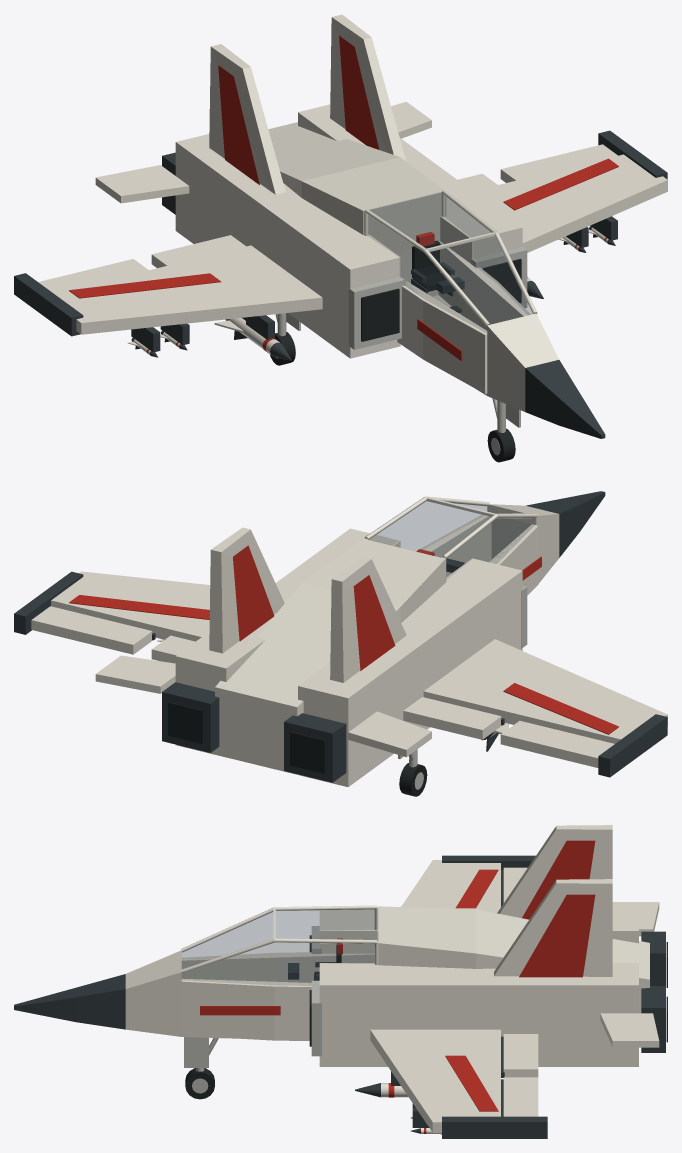
3 views of the same model, one above another, from view 1: azimuth 30°, elevation 25°; view 2: azimuth 150°, elevation 25°; view 3: azimuth 270°, elevation 25° (orthographic). The views are drawn at different scales.
Parts seen in each view (by area): view 1: jet-a-fleet-armor, jet-a-fleet-glass, jet-a-fleet-machine, jet-a-fleet-red, jet-a-fleet-edge, jet-a-fleet-rubber, elevator-left-fleet-armor, crew-chair-pilot-painted, aileron-right-painted, aileron-left-painted, flap-left-painted, store-left-large-painted (+2 smaller); view 2: jet-a-fleet-armor, jet-a-fleet-machine, jet-a-fleet-red, jet-a-fleet-glass, aileron-right-painted, aileron-left-painted, flap-left-painted, jet-a-fleet-rubber, elevator-left-fleet-armor, elevator-right-fleet-armor, gear-wheel-left-0-0-painted, flap-right-painted; view 3: jet-a-fleet-armor, jet-a-fleet-glass, jet-a-fleet-machine, jet-a-fleet-red, elevator-right-fleet-armor, flap-right-painted, aileron-right-painted, jet-a-fleet-edge, landing-gear-nose-painted, gear-wheel-nose-0-0-painted, elevator-left-fleet-armor, aileron-left-painted (+1 smaller).
Part boxes in pixels (box(x1,y1,x2,y2)): jet-a-fleet-armor: box(54, 14, 667, 411); jet-a-fleet-glass: box(368, 193, 532, 332); jet-a-fleet-machine: box(14, 130, 667, 438); jet-a-fleet-red: box(69, 35, 618, 360); jet-a-fleet-edge: box(348, 247, 527, 349); jet-a-fleet-rubber: box(361, 259, 521, 341); elevator-left-fleet-armor: box(95, 165, 189, 203); crew-chair-pilot-painted: box(411, 232, 464, 312); aileron-right-painted: box(500, 144, 617, 182); aileron-left-painted: box(38, 259, 148, 293); flap-left-painted: box(151, 235, 245, 268); store-left-large-painted: box(214, 317, 291, 360); jet-a-fleet-armor: box(51, 496, 667, 786); jet-a-fleet-machine: box(14, 491, 667, 782); jet-a-fleet-red: box(69, 545, 618, 734); jet-a-fleet-glass: box(369, 500, 534, 578); aileron-right-painted: box(31, 606, 155, 654); aileron-left-painted: box(500, 720, 614, 767); flap-left-painted: box(403, 697, 504, 739); jet-a-fleet-rubber: box(168, 702, 325, 773); elevator-left-fleet-armor: box(348, 711, 431, 757); elevator-right-fleet-armor: box(95, 655, 175, 693); gear-wheel-left-0-0-painted: box(399, 763, 427, 796); flap-right-painted: box(151, 635, 195, 663); jet-a-fleet-armor: box(125, 825, 649, 1132); jet-a-fleet-glass: box(182, 909, 376, 985); jet-a-fleet-machine: box(14, 855, 665, 1138); jet-a-fleet-red: box(200, 840, 595, 1111); elevator-right-fleet-armor: box(600, 1013, 659, 1047); flap-right-painted: box(501, 1034, 538, 1077); aileron-right-painted: box(501, 1077, 538, 1116); jet-a-fleet-edge: box(311, 926, 321, 1056); landing-gear-nose-painted: box(184, 1037, 218, 1071); gear-wheel-nose-0-0-painted: box(185, 1068, 214, 1099); elevator-left-fleet-armor: box(612, 902, 659, 936); aileron-left-painted: box(501, 867, 527, 906).
Size of the model in its own units: 71.03 by 30.13 by 73.68.
